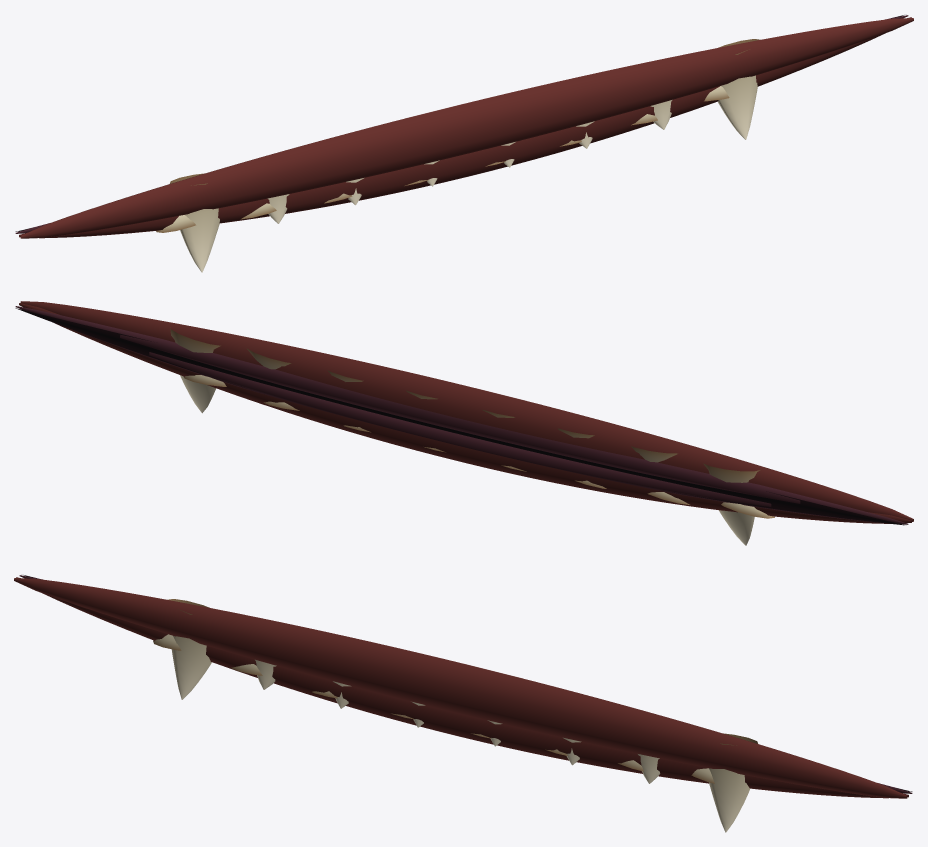
Rendered from GXR_MOUTH_SERRATED.glb.
The picture shows the model from 3 angles, top to bottom: view 1: azimuth 30°, elevation 25°; view 2: azimuth 150°, elevation 25°; view 3: azimuth 330°, elevation 25°; orthographic projection.
Parts seen in each view (by area): view 1: UpperLip, LowerLip, Tooth_0_7, Tooth_0_0; view 2: UpperLip, UpperGum, LowerLip, LowerGum, OralCavity, Tooth_0_0, Tooth_0_7; view 3: UpperLip, LowerLip, Tooth_0_7, Tooth_0_0.
Boxes of the visible parts, x1,y1,x2,y2 form: UpperLip: [20, 18, 913, 238]; LowerLip: [19, 17, 911, 238]; Tooth_0_7: [718, 39, 760, 139]; Tooth_0_0: [170, 173, 219, 272]; UpperLip: [20, 301, 913, 521]; UpperGum: [15, 306, 907, 524]; LowerLip: [19, 303, 911, 523]; LowerGum: [18, 308, 908, 524]; OralCavity: [15, 308, 904, 525]; Tooth_0_0: [703, 463, 760, 545]; Tooth_0_7: [170, 327, 220, 413]; UpperLip: [14, 578, 907, 798]; LowerLip: [16, 577, 908, 798]; Tooth_0_7: [709, 733, 757, 832]; Tooth_0_0: [167, 599, 211, 699].
Size of the model in its own units: 0.294 by 0.0309 by 0.00939.
